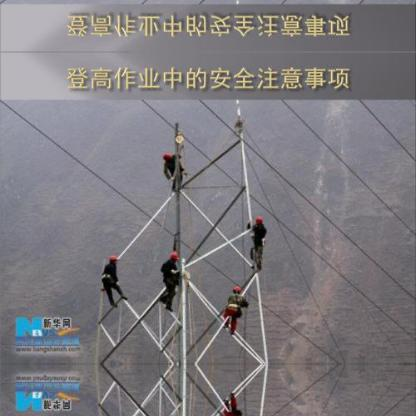helmet: (252, 215, 264, 228), (107, 252, 118, 266), (162, 150, 173, 163), (230, 283, 240, 297), (168, 251, 177, 264)
